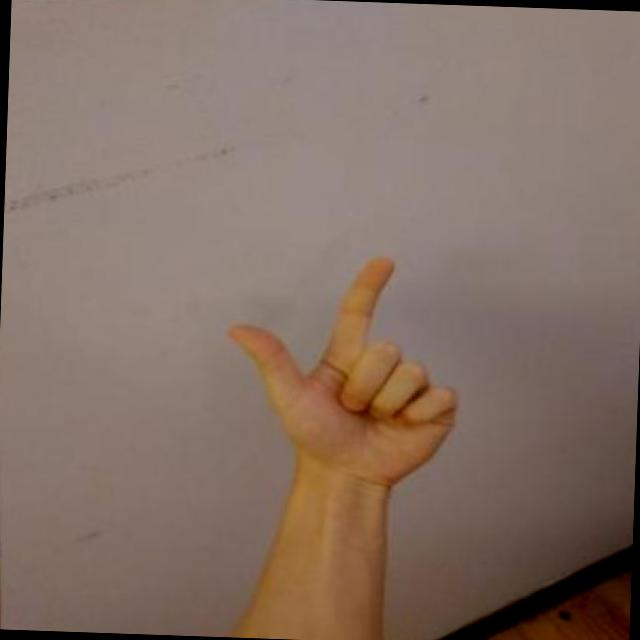L: (207, 240, 470, 502)
